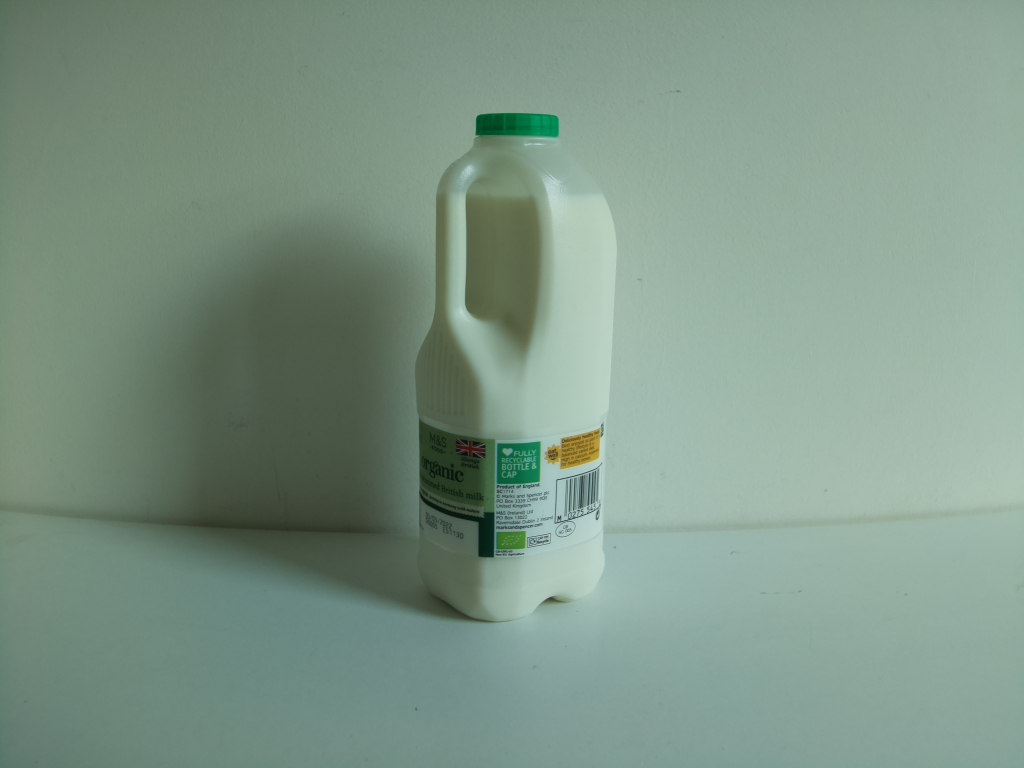milk: (410, 105, 626, 626)
